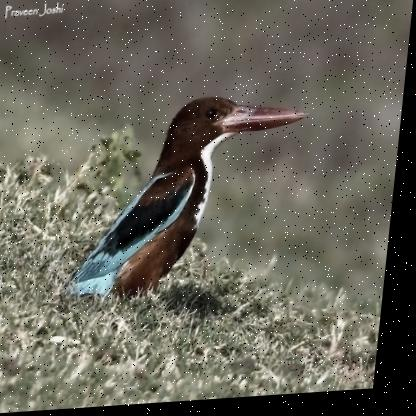Burung: (76, 93, 313, 301)
